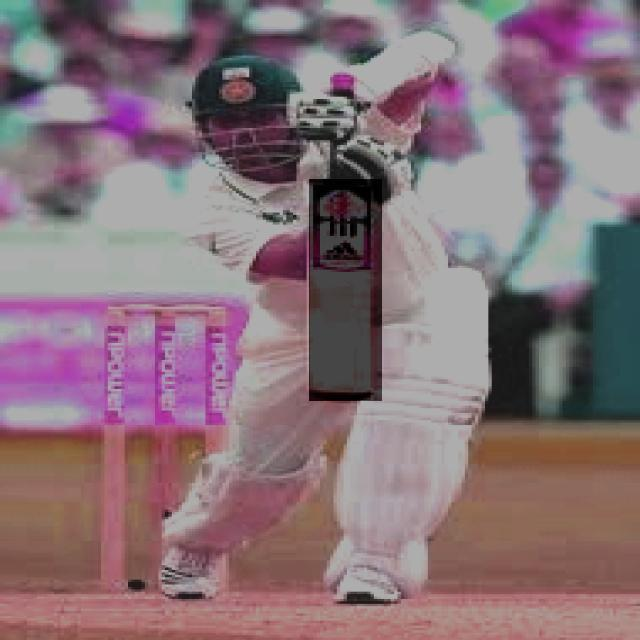bat: (310, 181, 383, 400)
toe: (311, 389, 375, 407)
